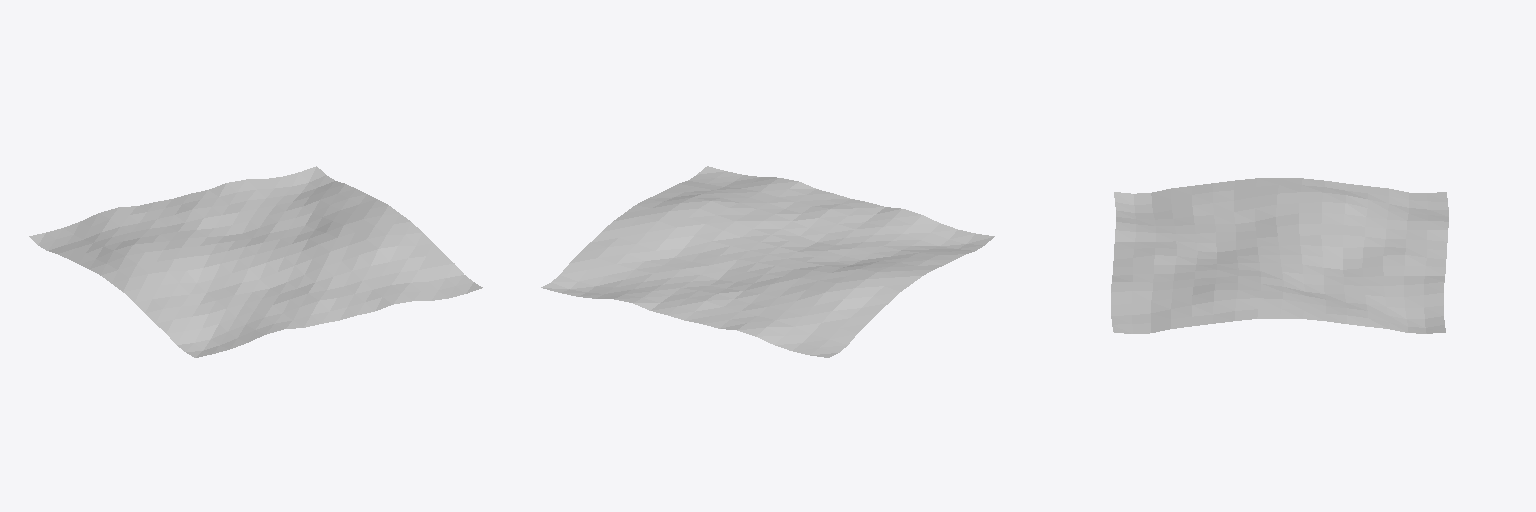
The model's file is water_000025.obj.
3 views of the same model, side by side, from view 1: azimuth 30°, elevation 25°; view 2: azimuth 150°, elevation 25°; view 3: azimuth 270°, elevation 25° (orthographic).
Parts seen in each view (by area): view 1: Plan.003_Plan.001; view 2: Plan.003_Plan.001; view 3: Plan.003_Plan.001.
Boxes of the visible parts, box(x1,y1,x2,y2) form: Plan.003_Plan.001: box(29, 166, 482, 357); Plan.003_Plan.001: box(541, 166, 994, 357); Plan.003_Plan.001: box(1111, 178, 1448, 333).
Bounding box in the file's own units: 60543 × 4290 × 61341.